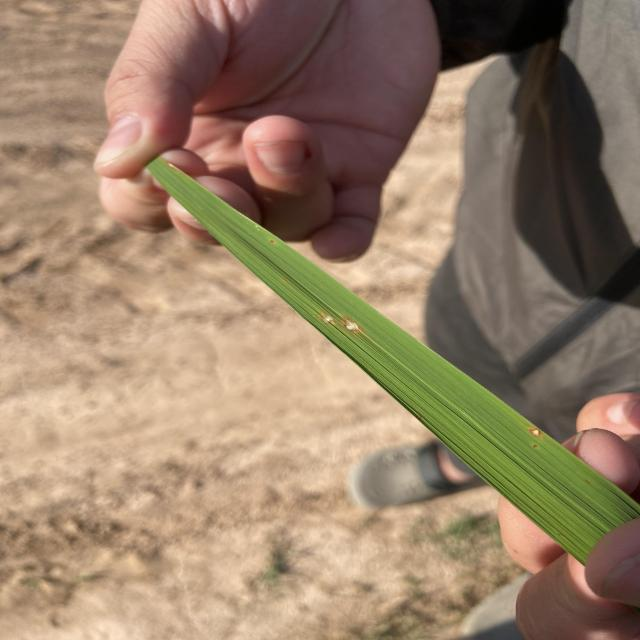Dao on: (344, 318, 360, 331), (530, 427, 541, 437), (322, 314, 334, 323)
